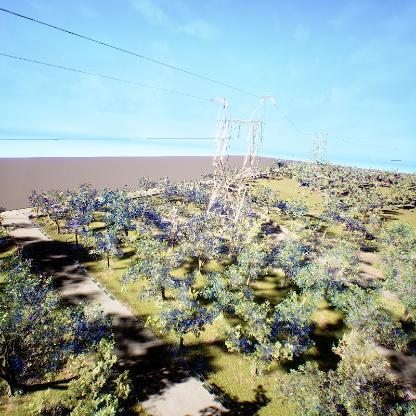tower: (201, 90, 279, 247)
